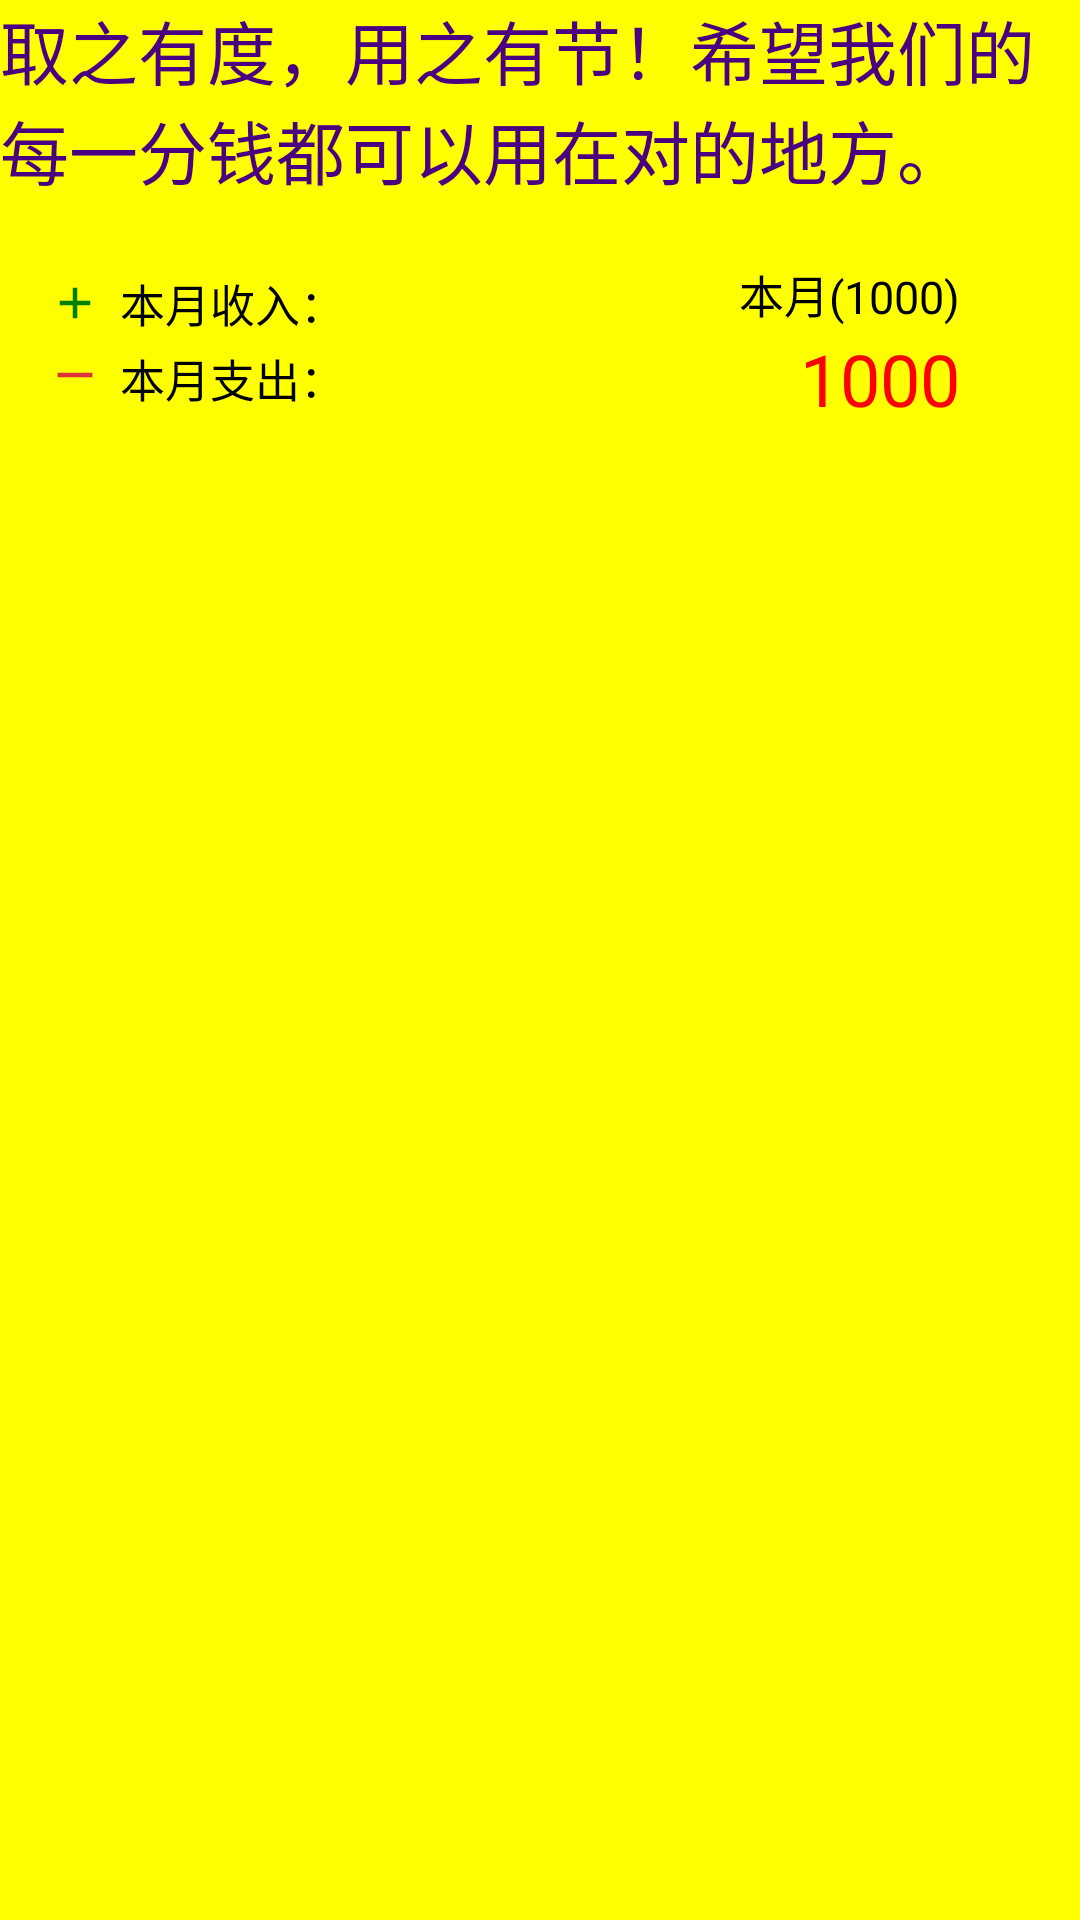

Named icons in this screenshot (1080px×1920px) and their bounding boxes, (x1, y1, x2, y2):
expense: (57, 372, 93, 378)
income: (59, 287, 91, 319)
